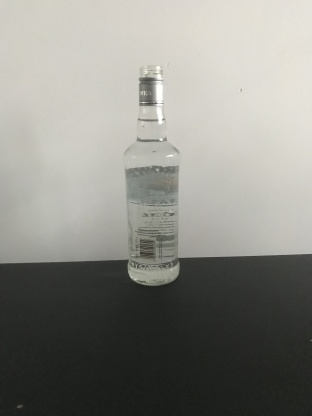nakretka: (137, 64, 165, 106)
